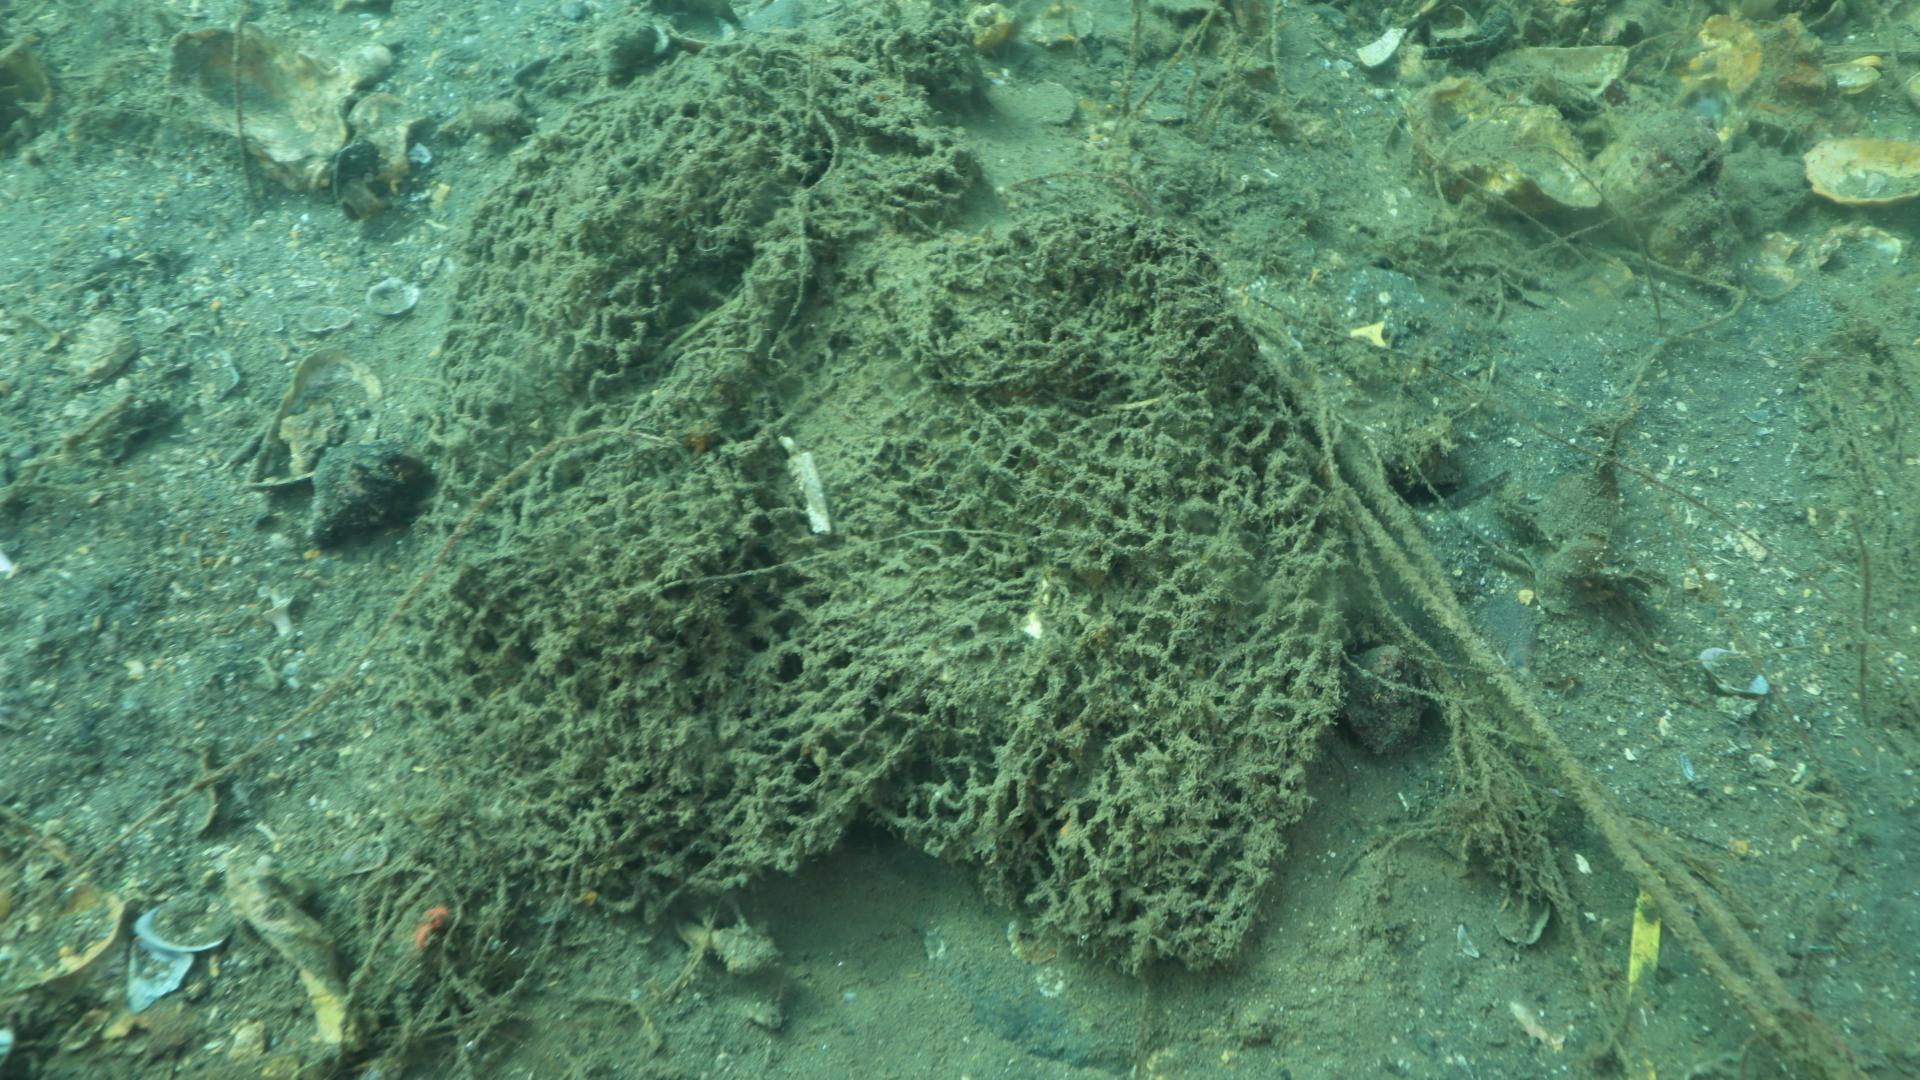bundle of ropes: (1242, 313, 1876, 1080)
fish net: (396, 37, 1342, 947)
